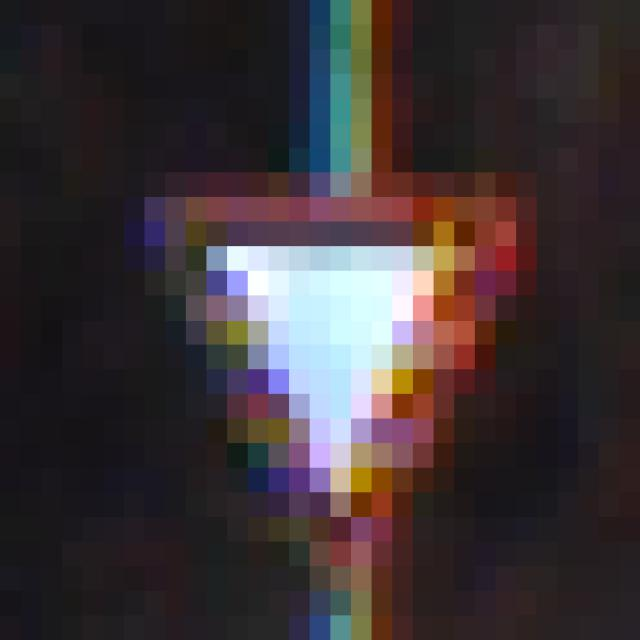Give Way: (125, 149, 538, 518)
